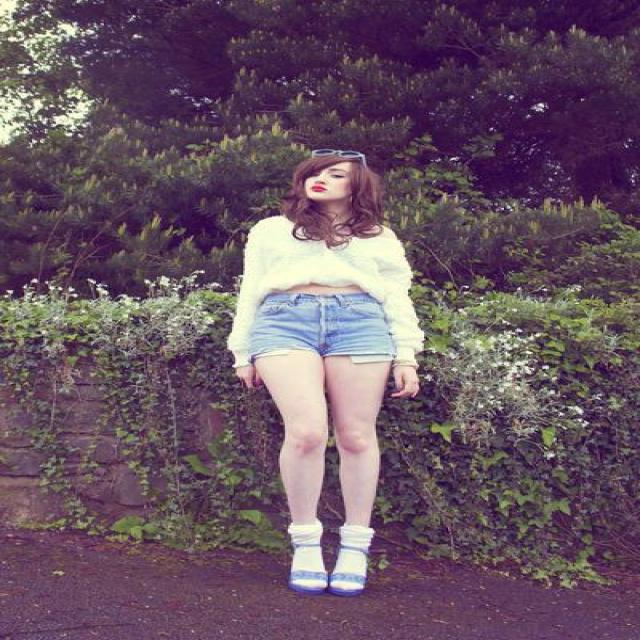shirt: (227, 217, 424, 366)
shoe: (275, 546, 370, 616)
shorts: (250, 298, 395, 362)
